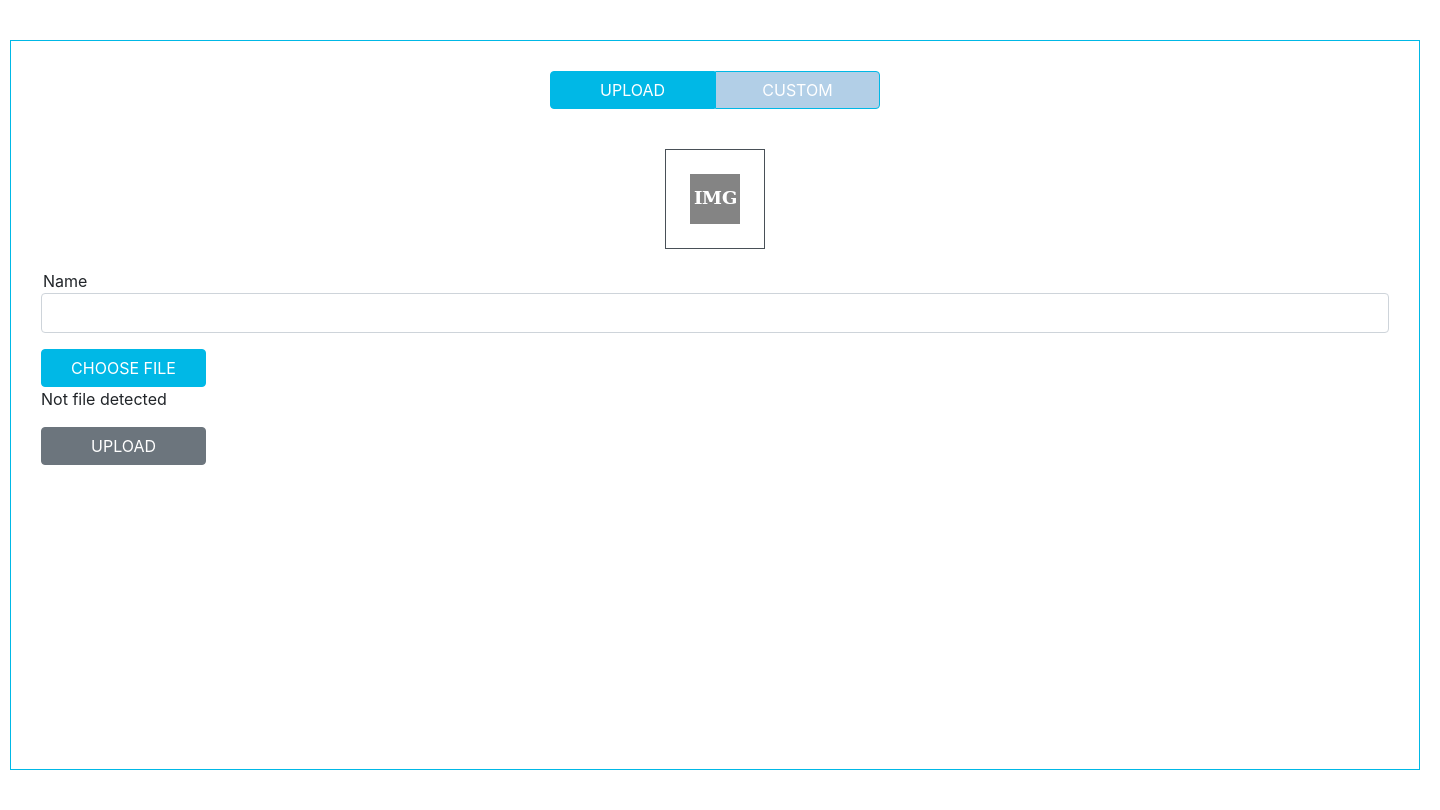
Scenario: it should change Upload Marker for Download Marker in MarkerCreator component
Click the button "custom".
click(798, 90)  # box x1=715 y1=71 x2=880 y2=109
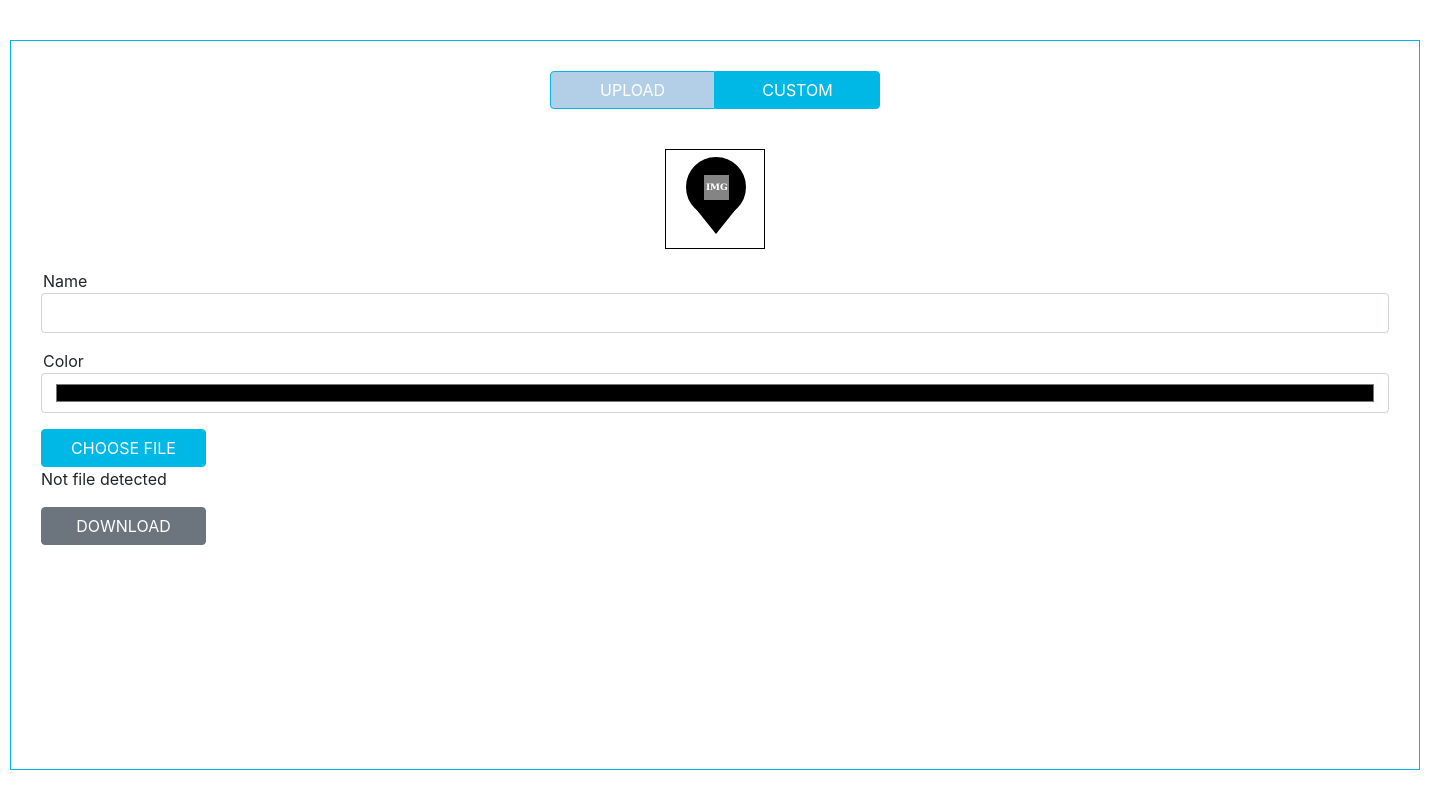
Expected: the colour field labelled "Color" is shown, x1=41 y1=373 x2=1389 y2=413
